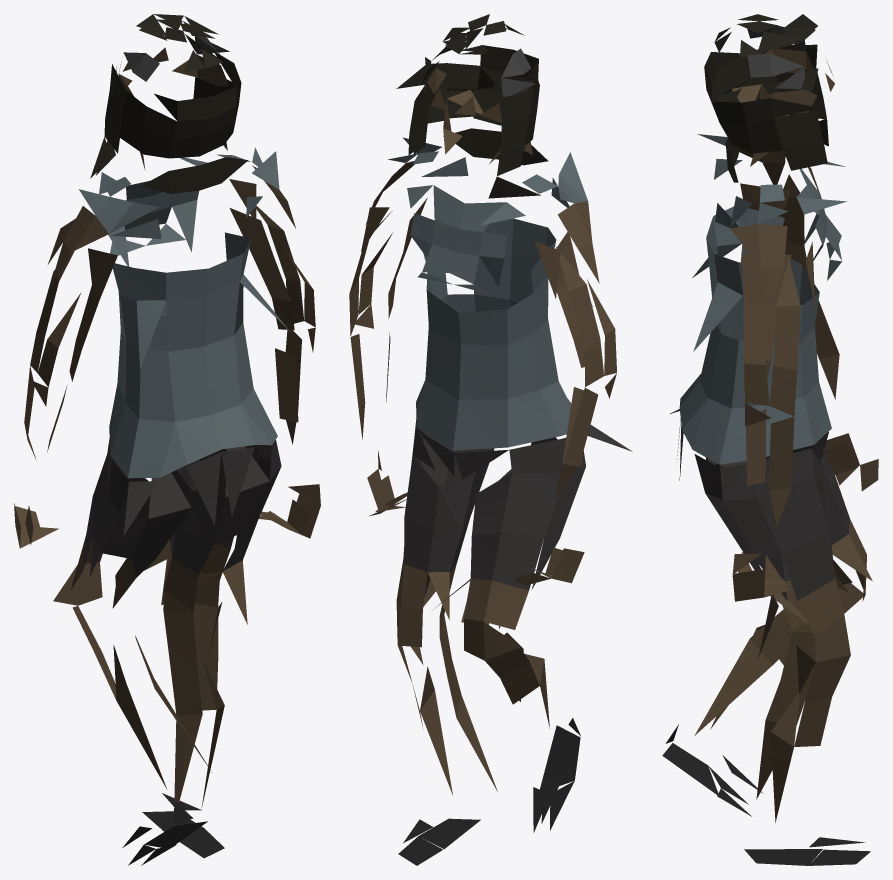
The model's file is personfar_5_w0.fbx.
The picture shows the model from 3 angles, left to right: view 1: azimuth 30°, elevation 25°; view 2: azimuth 150°, elevation 25°; view 3: azimuth 270°, elevation 25°; orthographic projection. The views are drawn at different scales.
Visible parts, largest first — view 1: BaseHuman.000; view 2: BaseHuman.000; view 3: BaseHuman.000.
Boxes of the visible parts, box(x1,y1,x2,y2) form: BaseHuman.000: box(14, 14, 320, 865); BaseHuman.000: box(349, 14, 632, 865); BaseHuman.000: box(662, 14, 878, 865).
Bounding box in the file's own units: 0.3271 × 0.9662 × 0.2301.
